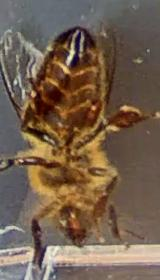varroa_mite: (84, 92, 106, 130)
